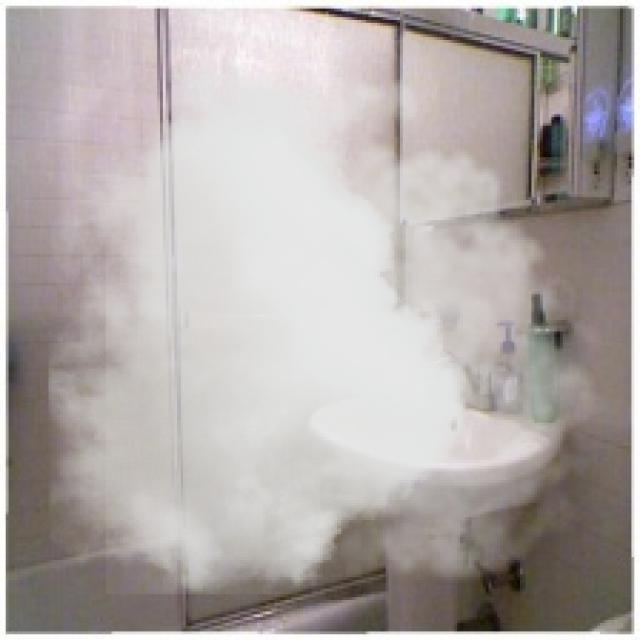Smoke: (48, 39, 614, 594)
